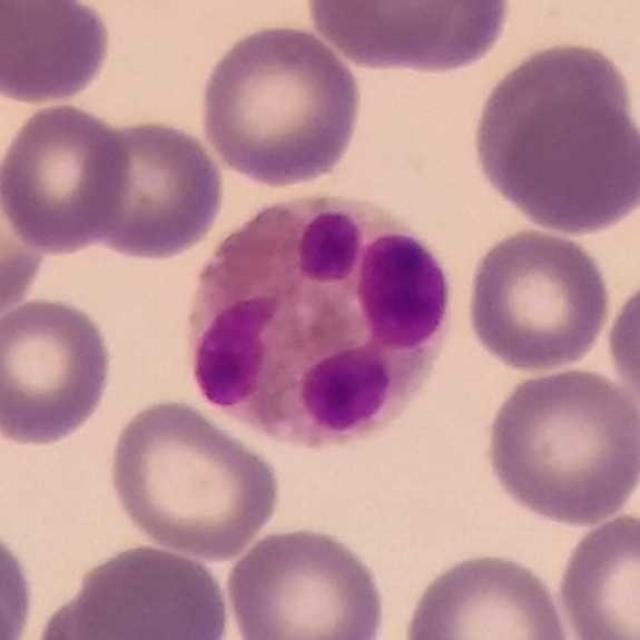Eosinophil: (169, 182, 460, 460)
RBC: (468, 36, 639, 219), (103, 394, 284, 562), (195, 19, 367, 190), (479, 363, 640, 529), (462, 225, 614, 375), (82, 113, 228, 264), (0, 99, 134, 255), (221, 521, 392, 640), (0, 292, 118, 448), (60, 538, 233, 640), (398, 547, 574, 640), (351, 224, 458, 354), (0, 0, 116, 107), (303, 0, 473, 71), (554, 508, 639, 640), (372, 0, 516, 77), (0, 146, 51, 325), (602, 267, 640, 428), (0, 0, 45, 104), (0, 517, 38, 640)
